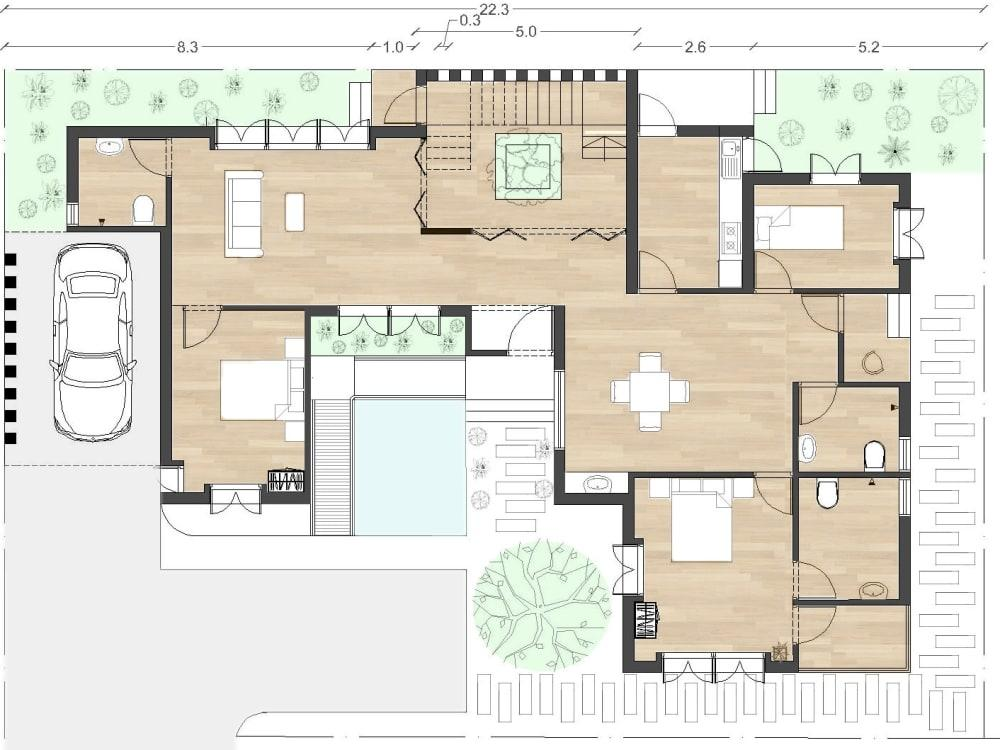room: (168, 131, 631, 306), (558, 291, 796, 473), (630, 474, 795, 667), (167, 307, 308, 497), (633, 130, 748, 291), (751, 178, 906, 290), (795, 475, 907, 602), (797, 385, 905, 473), (72, 132, 166, 228), (797, 603, 909, 669)
